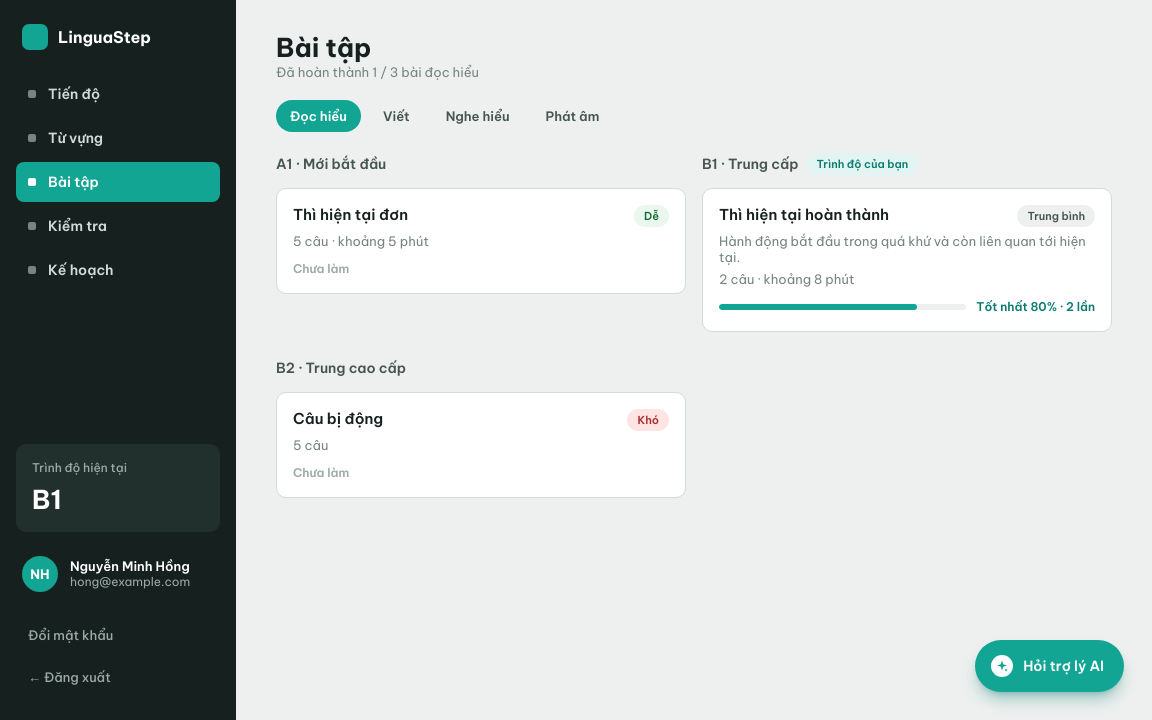
Test case: AI assistant › closes with Escape and gives focus back to the button
Click the button "Hỏi trợ lý AI" at coordinates (1050, 666), box left=975, top=640, right=1124, bottom=692
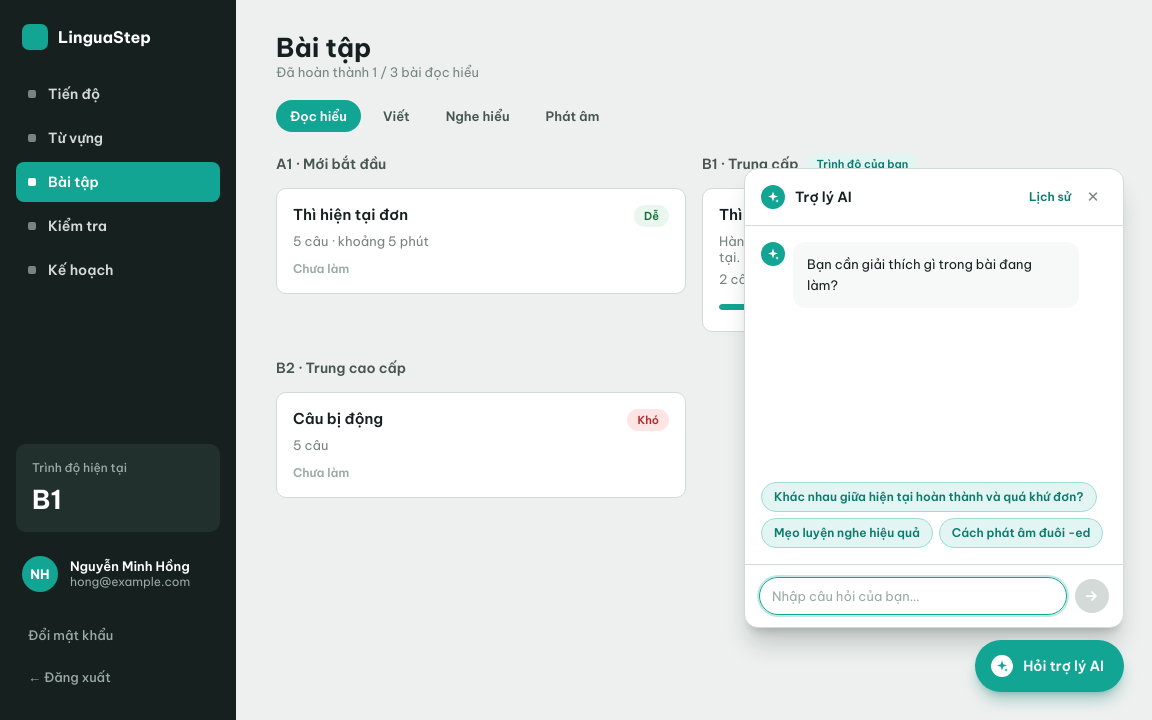
Press Escape
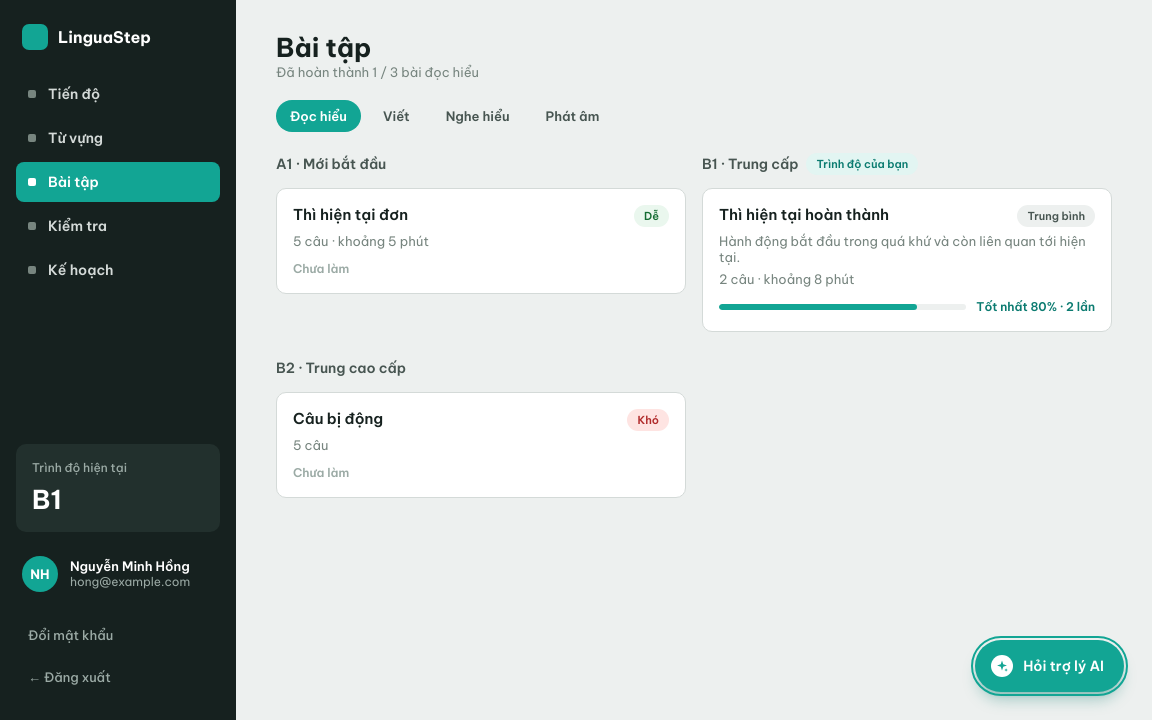
Expected: the button "Hỏi trợ lý AI" is collapsed, left=975, top=640, right=1124, bottom=692
